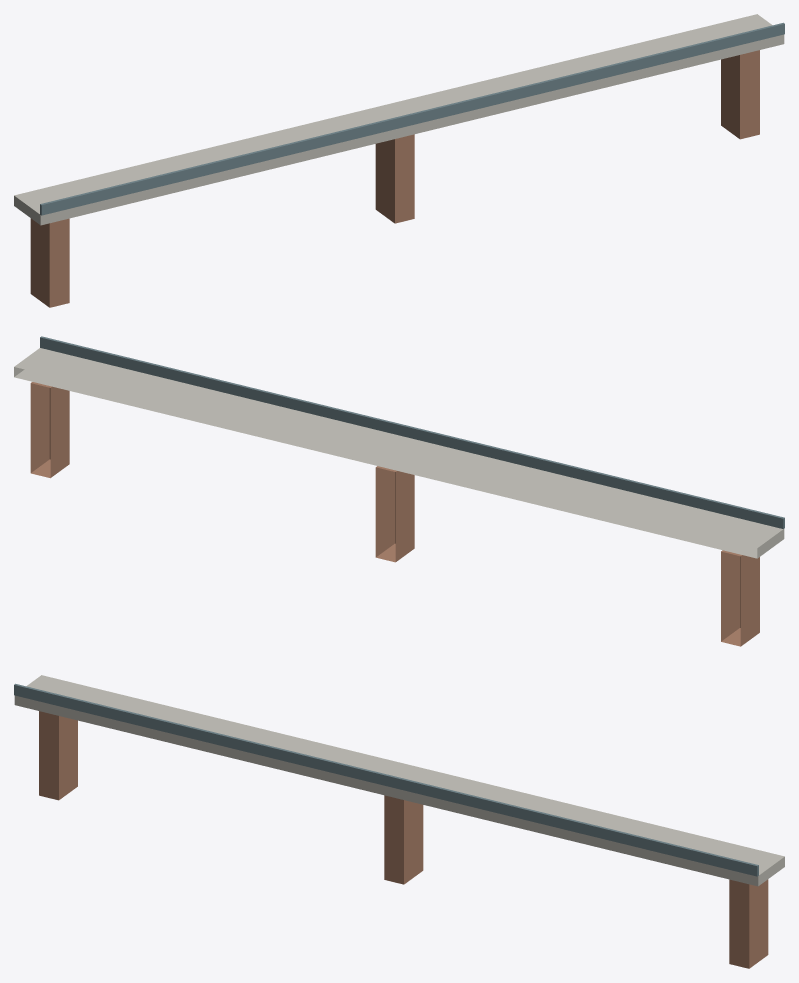
File: urban-1-2.glb
3 views of the same model, one above another, from view 1: azimuth 30°, elevation 25°; view 2: azimuth 150°, elevation 25°; view 3: azimuth 330°, elevation 25° (orthographic).
Parts seen in each view (by area): view 1: urban-1-2; view 2: urban-1-2; view 3: urban-1-2.
Part boxes in pixels (<box>): urban-1-2: <box>14,14,784,307</box>; urban-1-2: <box>14,336,784,646</box>; urban-1-2: <box>14,675,784,968</box>.
Size of the model in its own units: 112 by 16.25 by 7.2.
